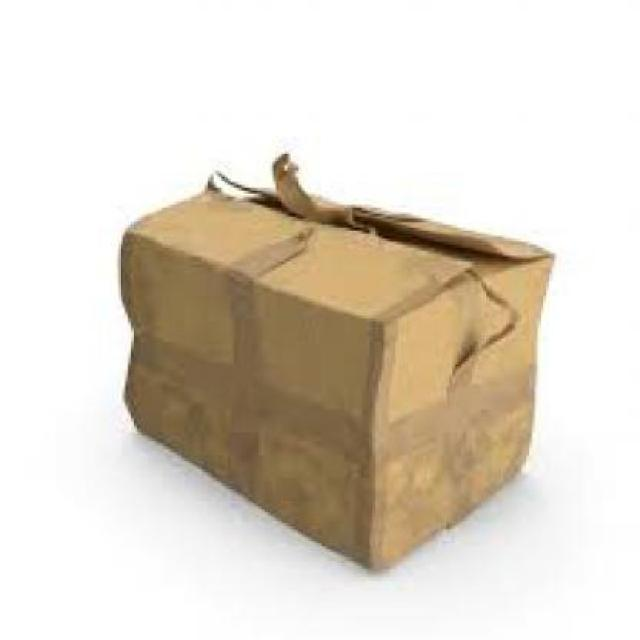CARDBOARD: (122, 151, 558, 572)
